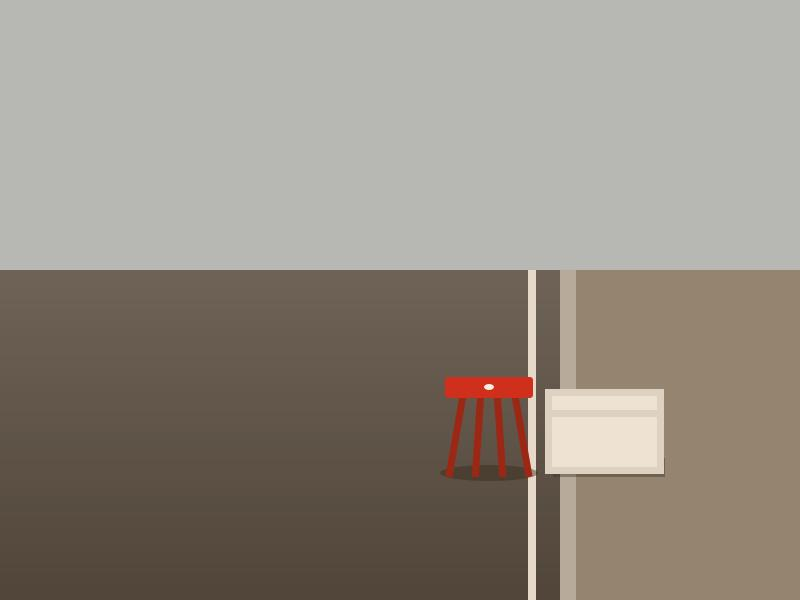ROAD_OBSTACLE: (548, 392, 660, 470), (445, 377, 533, 473)
